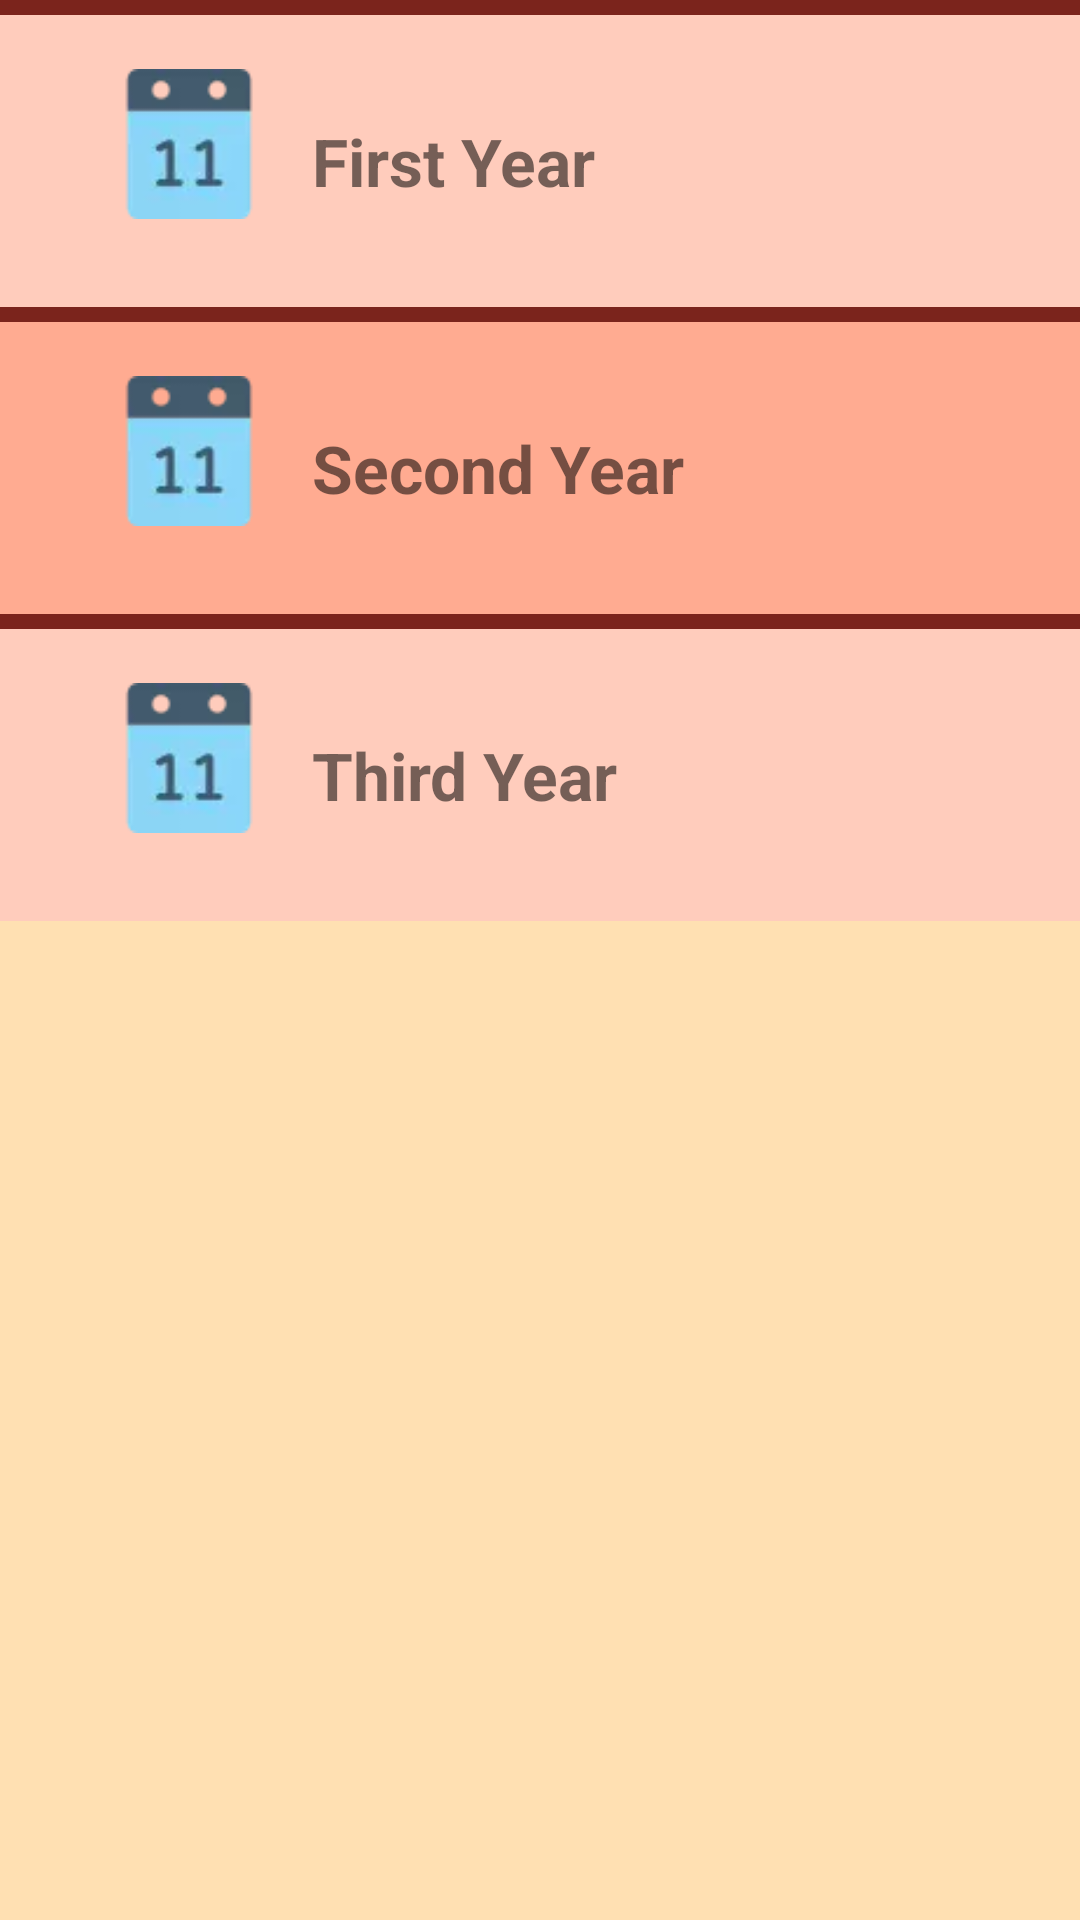

Where to tap for icons on this 1080*1920 app screen, as [x,y]:
calendar: [189,144], [189,451], [189,758]
